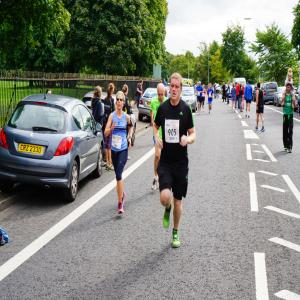Vehicle-registration-plate: (18, 143, 44, 155), (148, 102, 152, 107)
